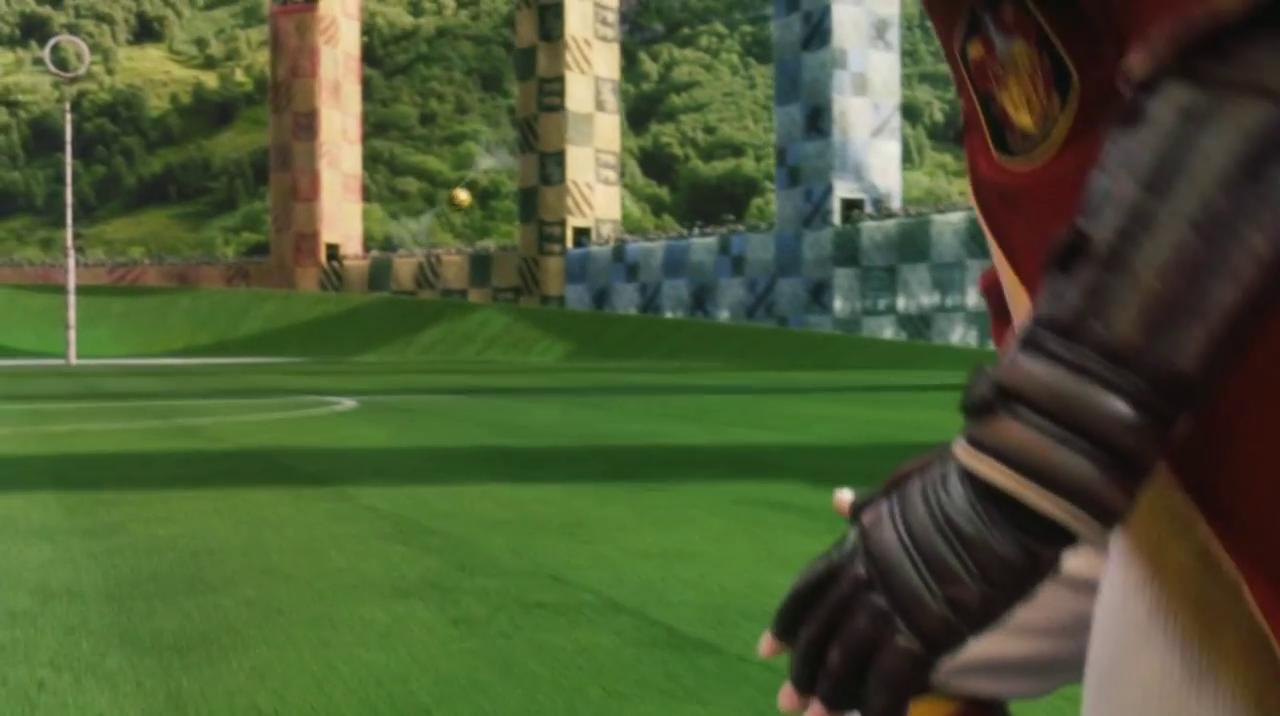snitch: (447, 185, 474, 214)
